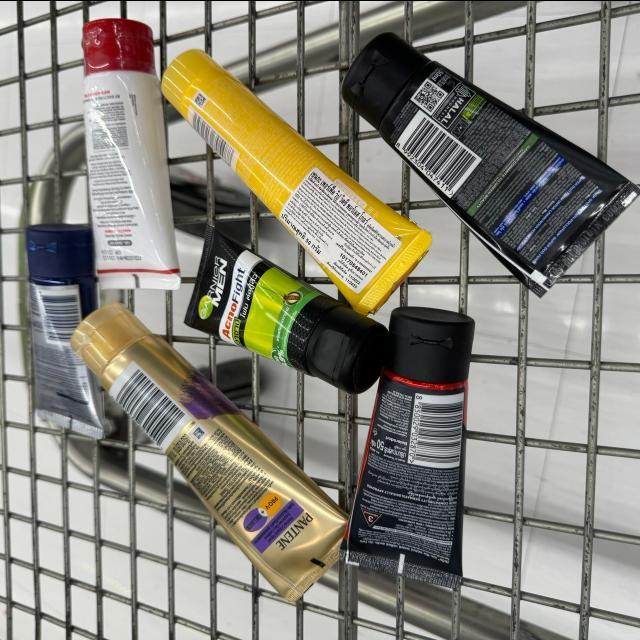Squeeze Tube: (315, 11, 639, 301), (66, 292, 354, 609), (150, 33, 438, 315), (338, 305, 485, 587), (178, 219, 389, 403), (66, 12, 184, 292), (17, 223, 117, 439)
